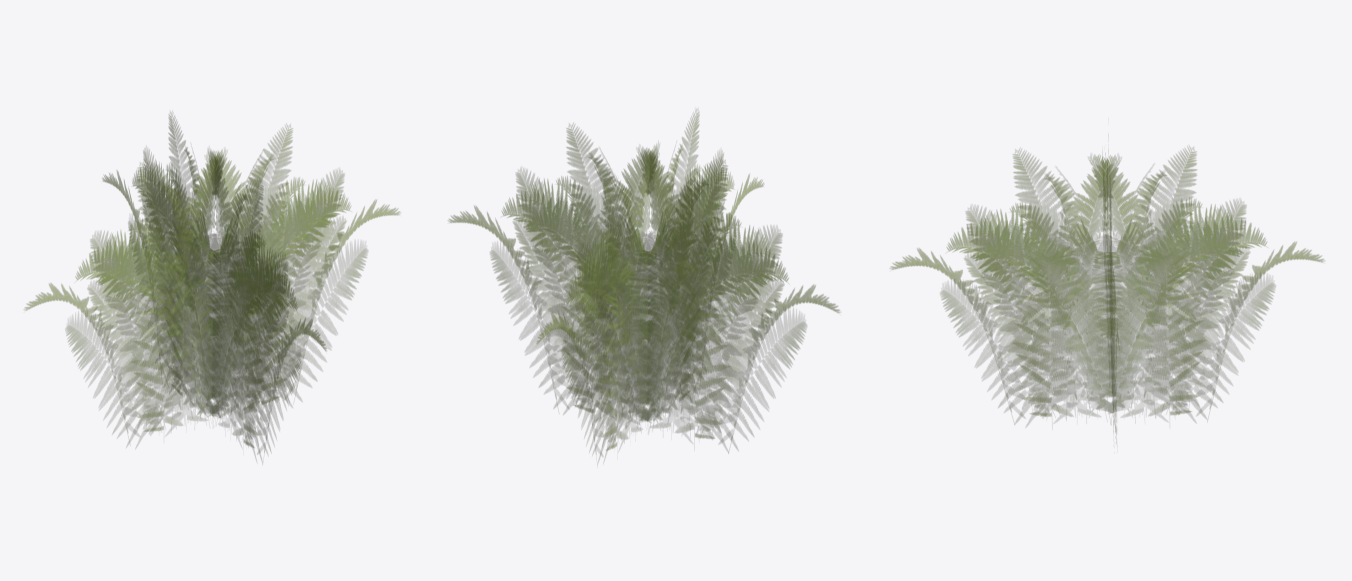
Rendered from Low_Poly_Shrub.glb.
3 renders of one model, left to right at view 1: azimuth 30°, elevation 25°; view 2: azimuth 150°, elevation 25°; view 3: azimuth 270°, elevation 25°, orthographic. The views are drawn at different scales.
Visible parts, largest first — view 1: pPlane8_lambert2_0, pPlane5_lambert2_0, pPlane6_lambert2_0, pPlane7_lambert2_0; view 2: pPlane5_lambert2_0, pPlane8_lambert2_0, pPlane7_lambert2_0, pPlane6_lambert2_0; view 3: pPlane6_lambert2_0, pPlane7_lambert2_0, pPlane8_lambert2_0.
Part boxes in pixels (x1=…): pPlane8_lambert2_0: x1=65, y1=124, x2=400, y2=447; pPlane5_lambert2_0: x1=24, y1=151, x2=367, y2=436; pPlane6_lambert2_0: x1=102, y1=111, x2=301, y2=460; pPlane7_lambert2_0: x1=128, y1=147, x2=326, y2=453; pPlane5_lambert2_0: x1=490, y1=149, x2=840, y2=443; pPlane8_lambert2_0: x1=449, y1=123, x2=806, y2=451; pPlane7_lambert2_0: x1=561, y1=109, x2=763, y2=462; pPlane6_lambert2_0: x1=536, y1=147, x2=736, y2=456; pPlane6_lambert2_0: x1=940, y1=146, x2=1323, y2=426; pPlane7_lambert2_0: x1=890, y1=149, x2=1275, y2=422; pPlane8_lambert2_0: x1=1102, y1=153, x2=1119, y2=442.
Bounding box in the file's own units: 1.1 × 1.02 × 1.14.
1 material, 1 textured.
